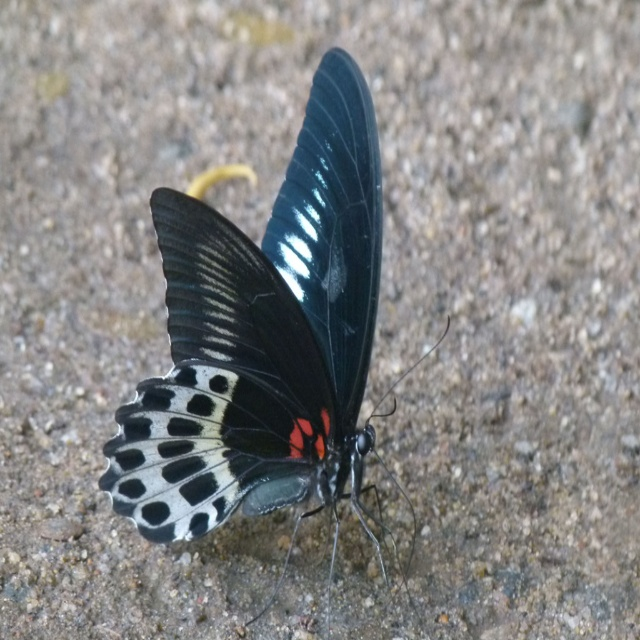Butterfly: (80, 49, 451, 603)
